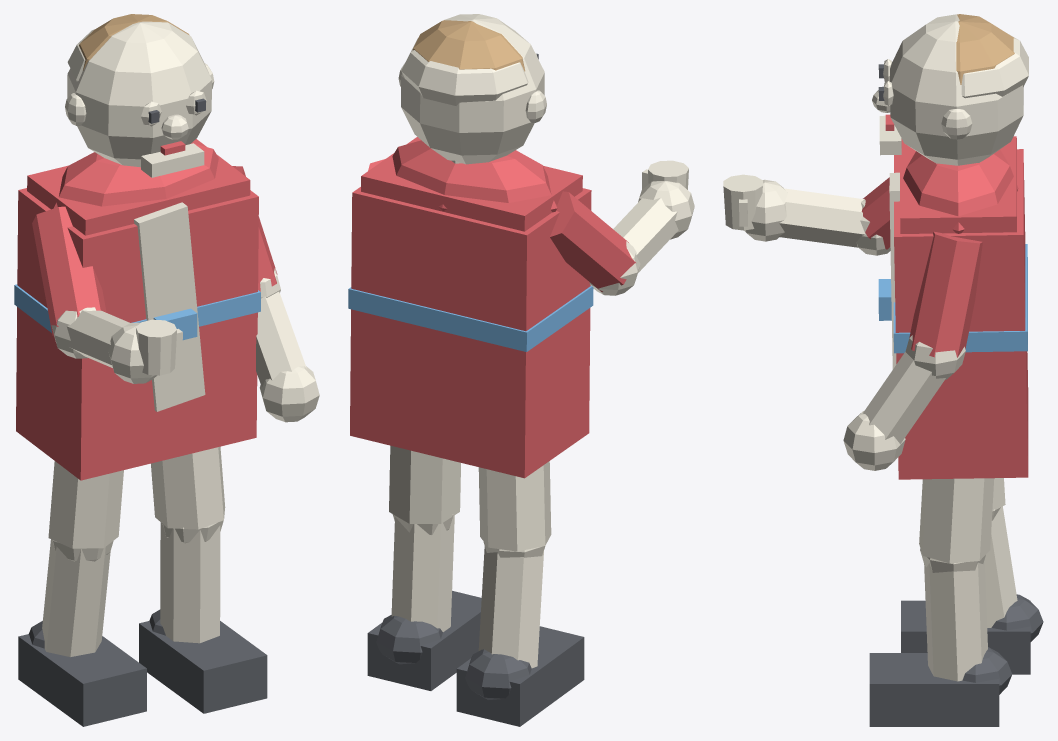
Rendered from lawn-mowing-simulator-kit-grumpy-neighbour-standing-ed946636__27347.glb.
The picture shows the model from 3 angles, left to right: view 1: azimuth 30°, elevation 25°; view 2: azimuth 150°, elevation 25°; view 3: azimuth 270°, elevation 25°; orthographic projection.
Parts seen in each view (by area): view 1: grumpy-neighbour-standing; view 2: grumpy-neighbour-standing; view 3: grumpy-neighbour-standing.
Part boxes in pixels (x1=…): grumpy-neighbour-standing: x1=14, y1=14, x2=319, y2=726; grumpy-neighbour-standing: x1=348, y1=14, x2=694, y2=726; grumpy-neighbour-standing: x1=723, y1=14, x2=1043, y2=726.
Size of the model in its own units: 0.6987 by 1.7 by 0.741.
